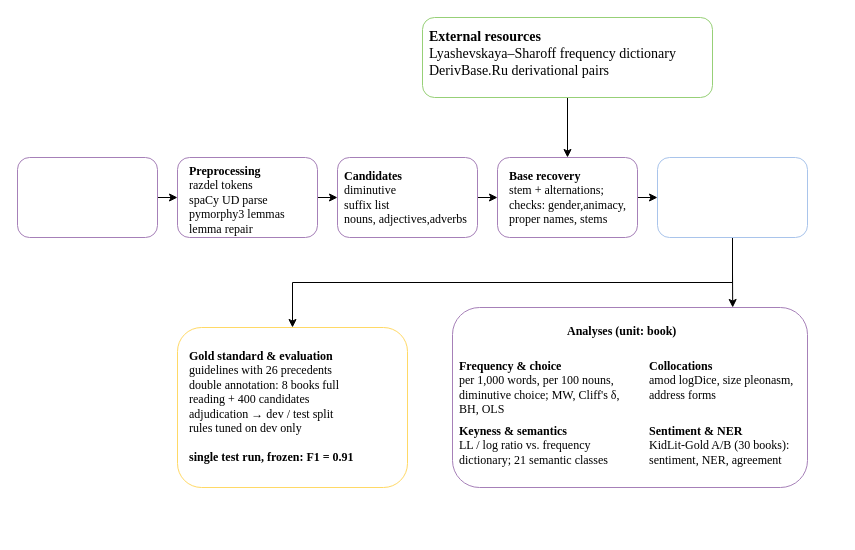
This 855x550 diagram has some shape labels left out. Each missing label, with the centre of its shape:
"Corpus 120 books, age 0+ RUS-O 60 / RUS-T 60 176k words" goes at pixel 87 197.
"Labels precedent lexicon (guidelines v0.4) DIM / LEX / HYP YOUNG / NO" goes at pixel 732 197.
